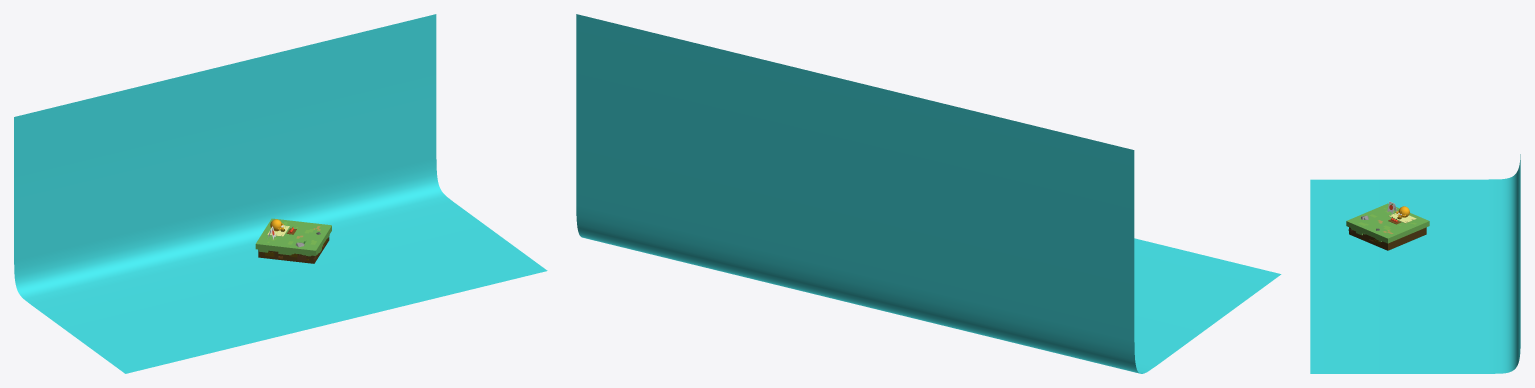
The model's file is start_market.fbx.
The picture shows the model from 3 angles, left to right: view 1: azimuth 30°, elevation 25°; view 2: azimuth 150°, elevation 25°; view 3: azimuth 270°, elevation 25°; orthographic projection. The views are drawn at different scales.
Visible parts, largest first — view 1: stage, 갈색잔디5; view 2: stage; view 3: stage, 갈색잔디5, 땅.
Part boxes in pixels (bbox=[...]): stage: bbox=[14, 14, 547, 373]; 갈색잔디5: bbox=[255, 218, 331, 255]; stage: bbox=[576, 14, 1281, 373]; stage: bbox=[1310, 154, 1520, 373]; 갈색잔디5: bbox=[1346, 203, 1429, 243]; 땅: bbox=[1349, 227, 1426, 250].
Bounding box in the file's own units: 2408 × 956 × 1100.
